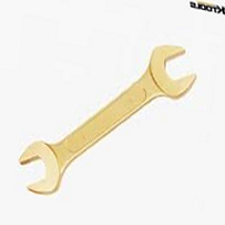Wrench: (15, 39, 209, 191)
